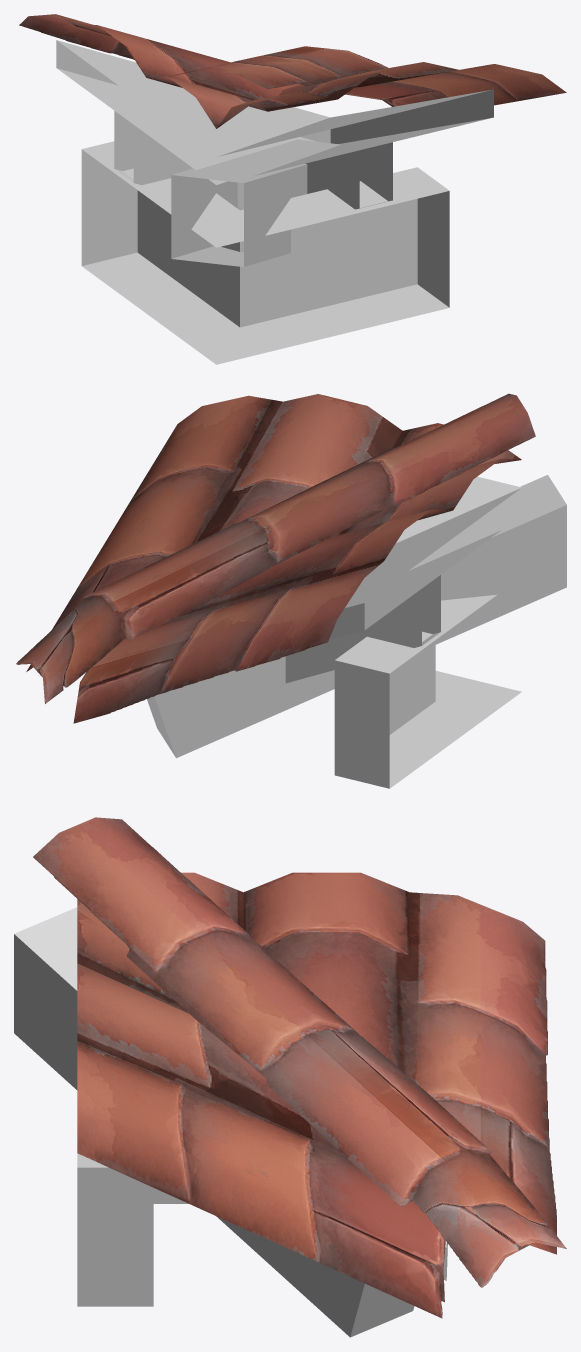
File: WallKit_Valley_End_LOD0.fbx
3 views of the same model, one above another, from view 1: azimuth 30°, elevation 25°; view 2: azimuth 150°, elevation 25°; view 3: azimuth 270°, elevation 25° (orthographic). The views are drawn at different scales.
Parts seen in each view (by area): view 1: WallKit_Valley_End_LOD0; view 2: WallKit_Valley_End_LOD0; view 3: WallKit_Valley_End_LOD0.
Part boxes in pixels (<box>): WallKit_Valley_End_LOD0: <box>19,14,566,364</box>; WallKit_Valley_End_LOD0: <box>16,393,566,788</box>; WallKit_Valley_End_LOD0: <box>14,817,566,1337</box>.
Bounding box in the file's own units: 147 × 109 × 150.
